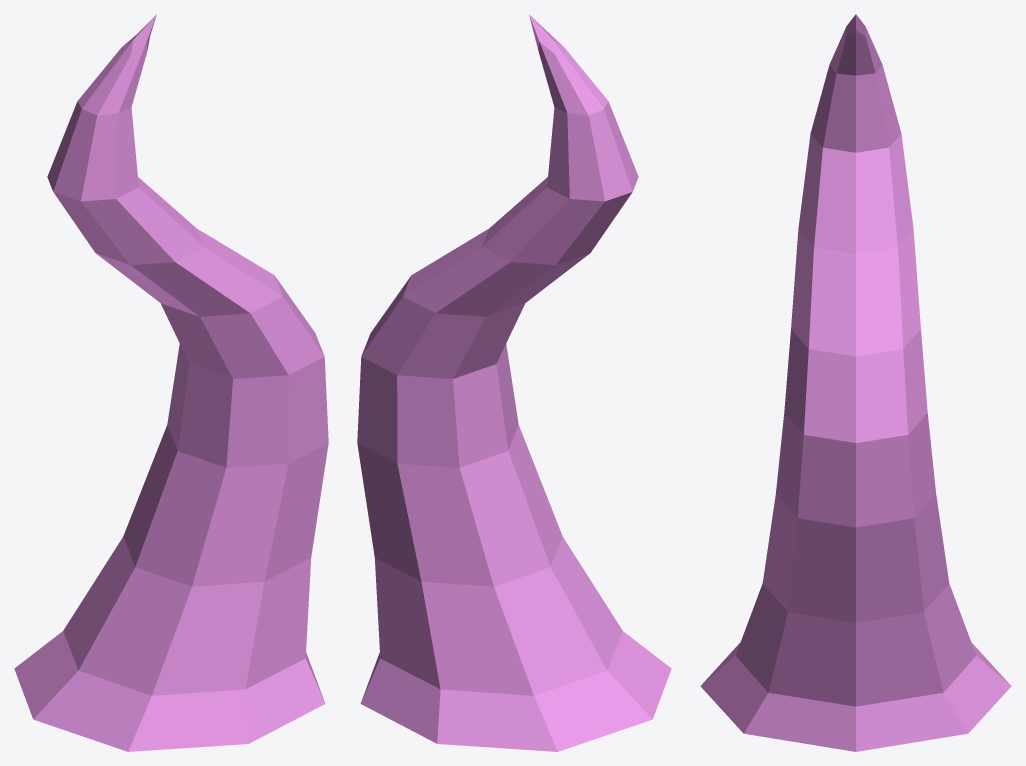
File: Spine 01.fbx
3 renders of one model, left to right at view 1: azimuth 30°, elevation 25°; view 2: azimuth 150°, elevation 25°; view 3: azimuth 270°, elevation 25°, orthographic.
Visible parts, largest first — view 1: Spine 01; view 2: Spine 01; view 3: Spine 01.
Boxes of the visible parts, x1,y1,x2,y2 form: Spine 01: (14, 14, 328, 751); Spine 01: (357, 14, 671, 751); Spine 01: (700, 14, 1011, 751).
Size of the model in its own units: 25.77 by 58.8 by 24.7.
